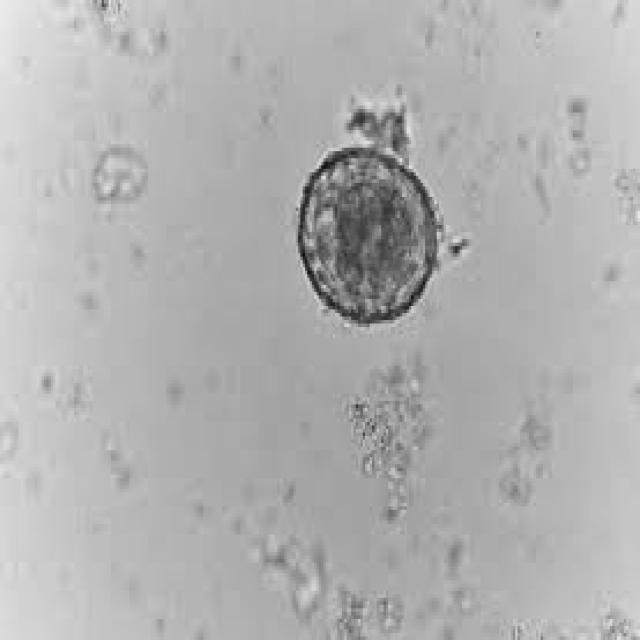Ascaris Lumbricoides: (291, 137, 441, 345)
